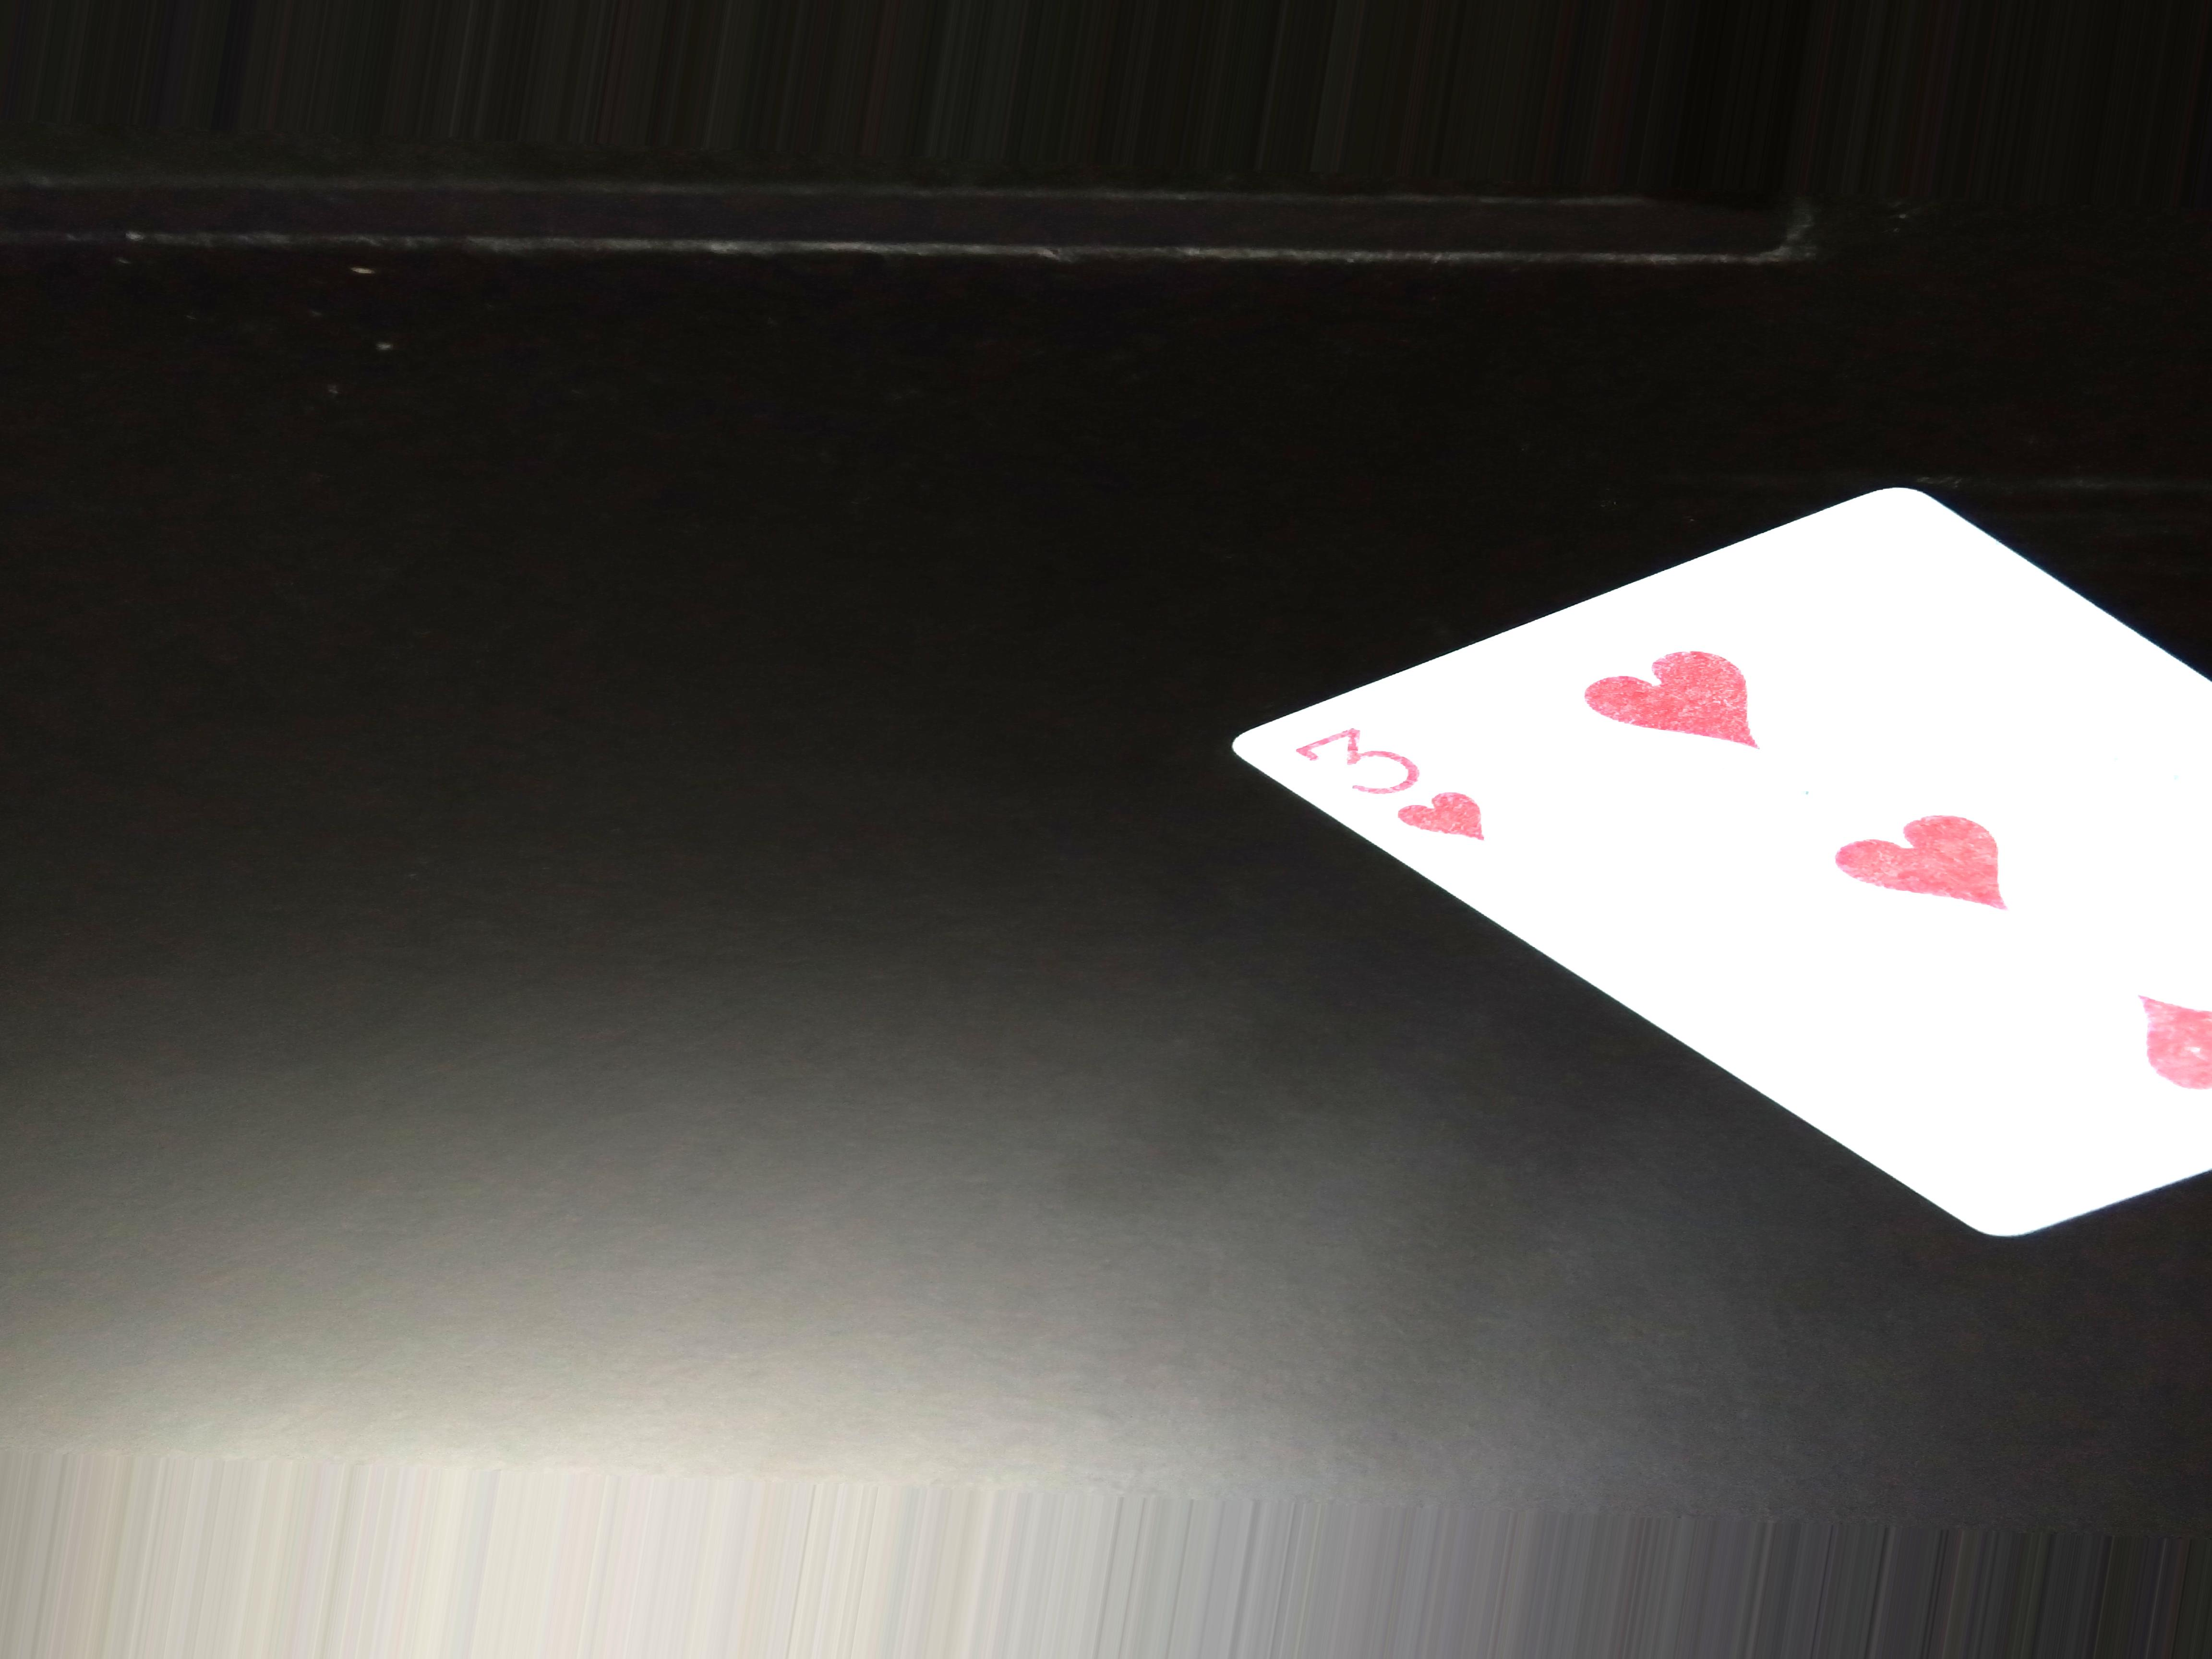3H: (1298, 704, 1493, 845)
